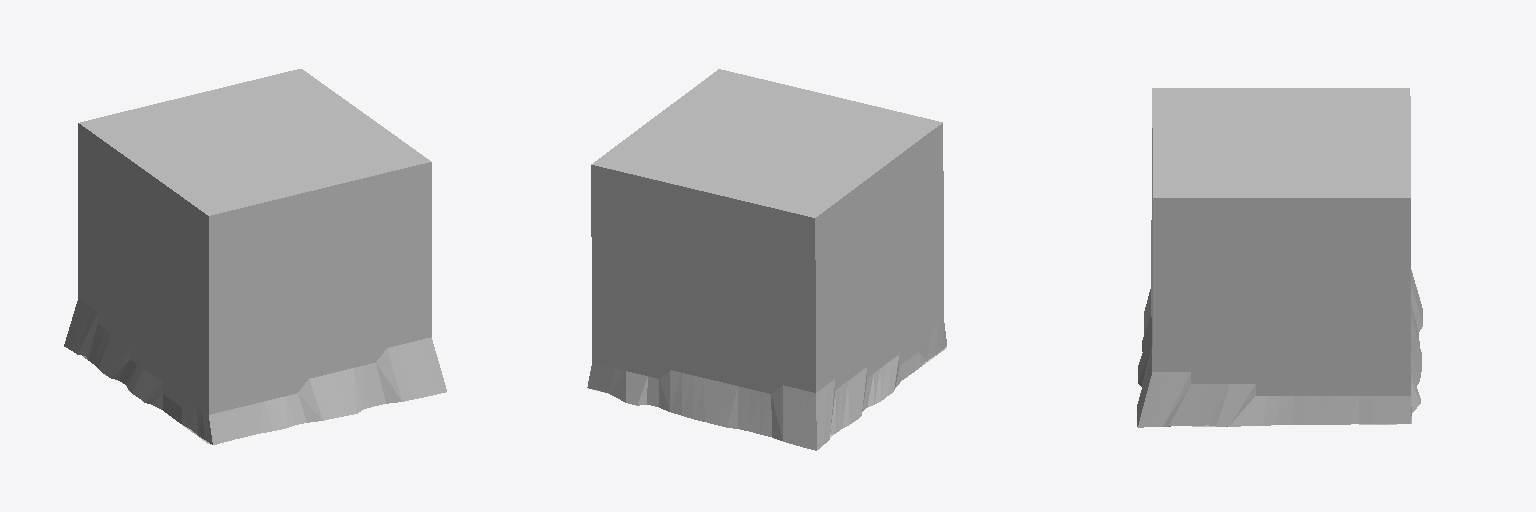
The model's file is mod0105.obj.
3 renders of one model, left to right at view 1: azimuth 30°, elevation 25°; view 2: azimuth 150°, elevation 25°; view 3: azimuth 270°, elevation 25°, orthographic.
Visible parts, largest first — view 1: Box001; view 2: Box001; view 3: Box001.
Part boxes in pixels (x1,y1,x2,y2): Box001: (64,69,446,444); Box001: (587,69,946,450); Box001: (1137,88,1422,427).
Size of the model in its own units: 0.5799 by 0.5237 by 0.5979.